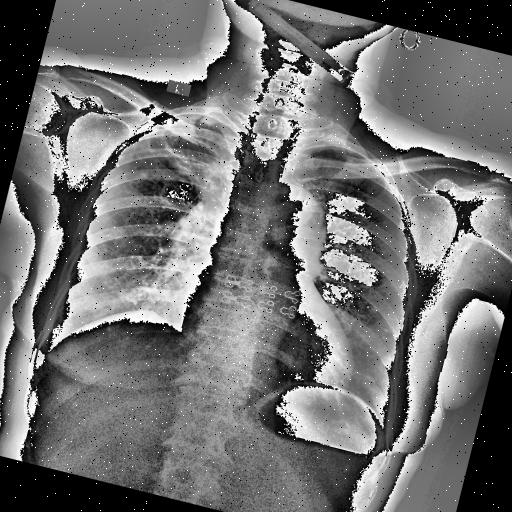0- Aortic enlargement: (252, 180, 336, 268), (260, 182, 334, 258)
11- Pleural thickening: (172, 105, 242, 142), (302, 138, 358, 164), (146, 302, 162, 318)
13- Pulmonary fibrosis: (146, 118, 240, 208), (137, 114, 234, 200), (132, 112, 226, 198)
3- Cardiomegaly: (160, 286, 370, 408)
9- Other lesion: (116, 293, 176, 331)
